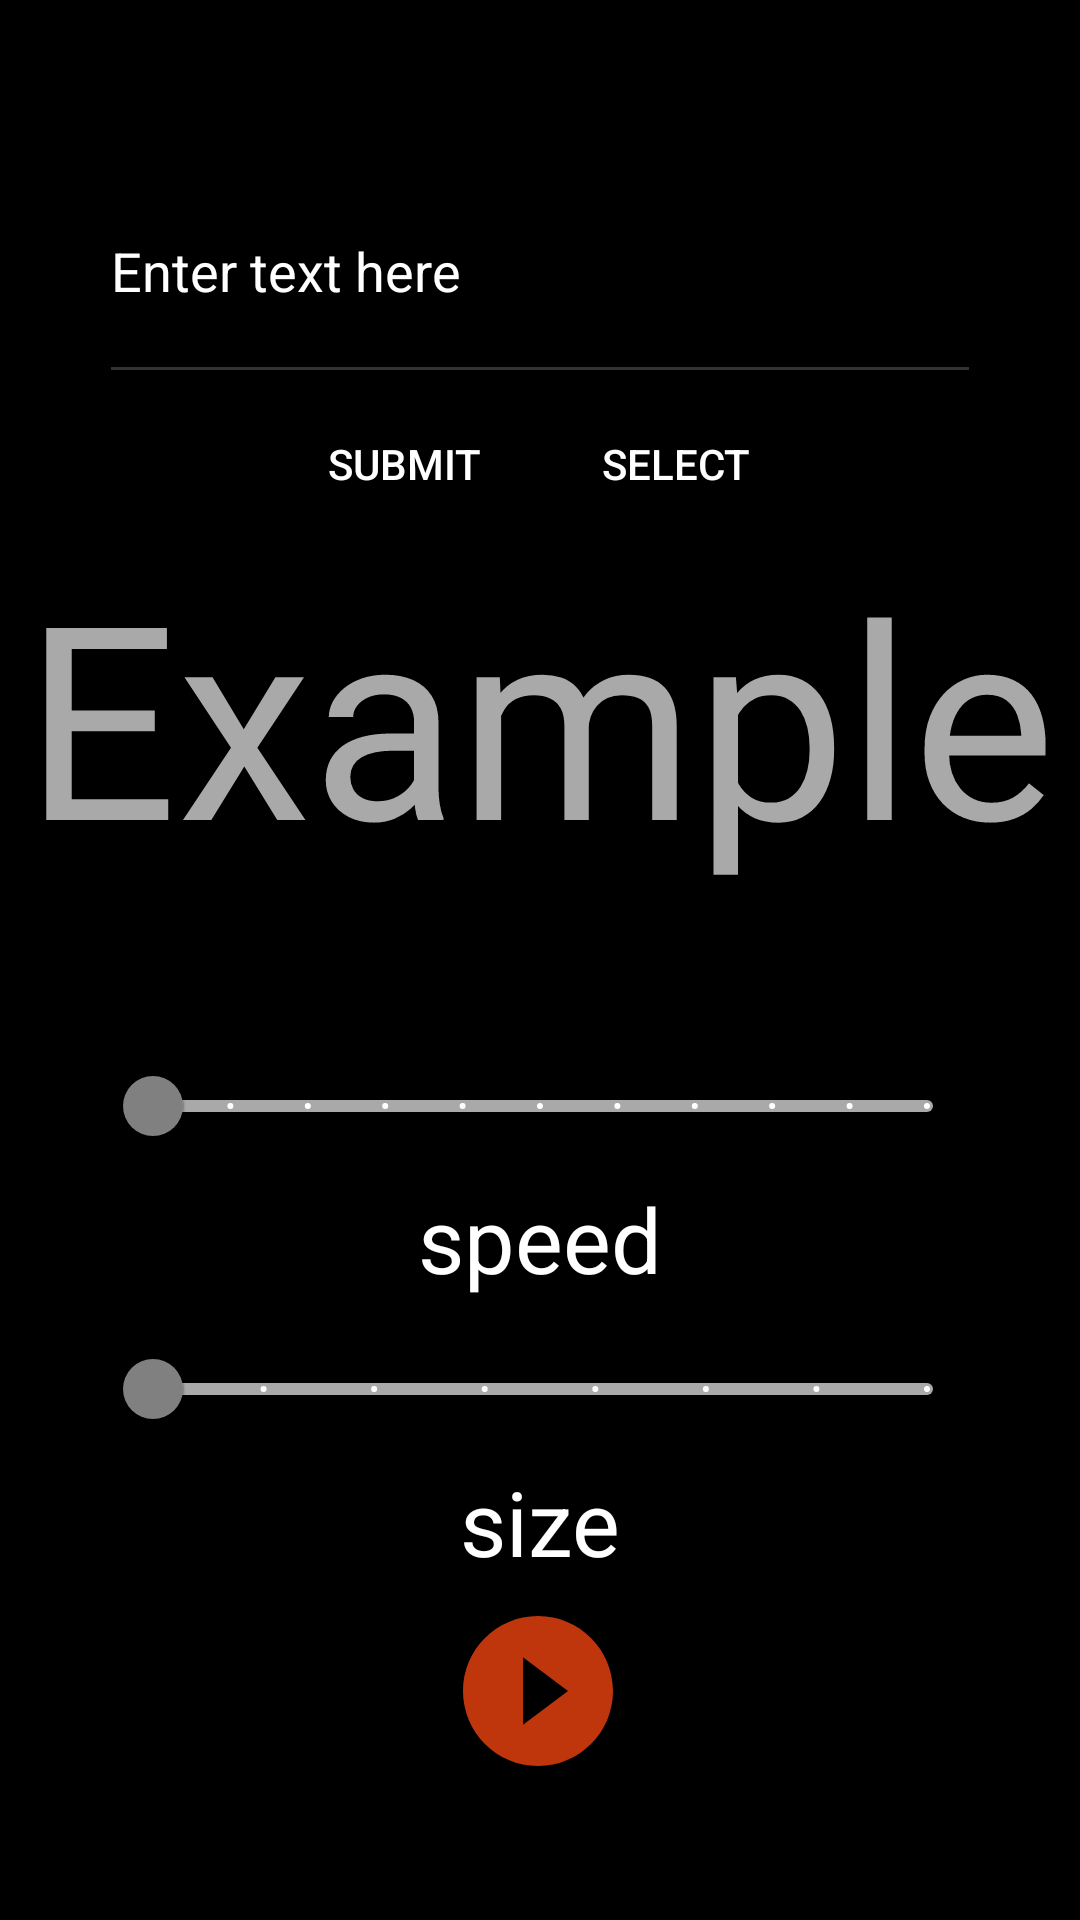

Icons on this 1080×1920 Android screen, each with its box as detection(x1, y1, x2, y2):
play button: detection(463, 1616, 613, 1766)
